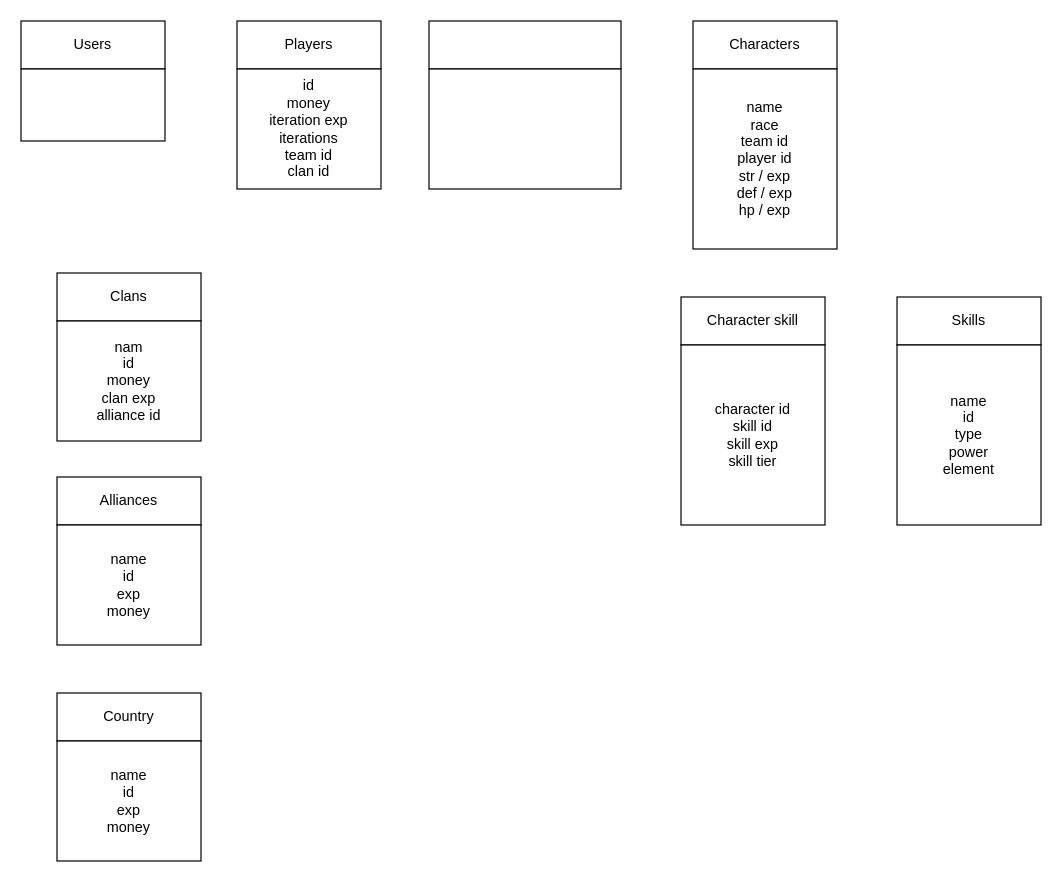
Some shapes in this 1062 by 882 pixel diagram are drawn without their labels. Each missing label, with the box of its shape:
id username password email: (20, 68, 165, 141)
name team id team exp leader character id other team var: (428, 68, 621, 189)
Teams: (428, 20, 621, 69)
